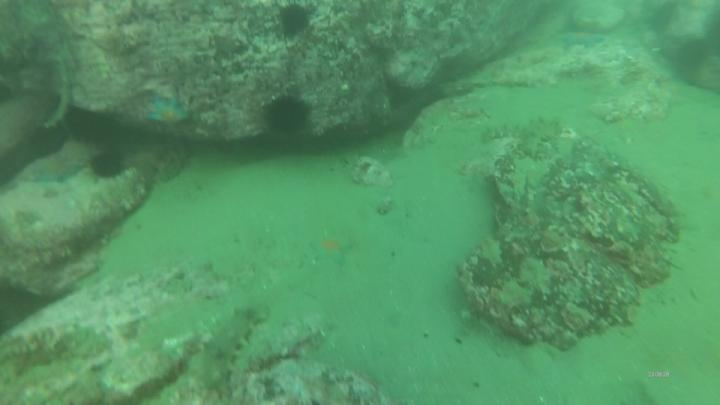echinus: (257, 92, 319, 139), (277, 2, 316, 44), (88, 148, 130, 181)
holothurian: (196, 305, 271, 405), (520, 122, 562, 158), (480, 123, 530, 142)
starfish: (32, 158, 85, 188), (148, 97, 193, 132), (310, 232, 355, 267), (562, 28, 606, 53)
